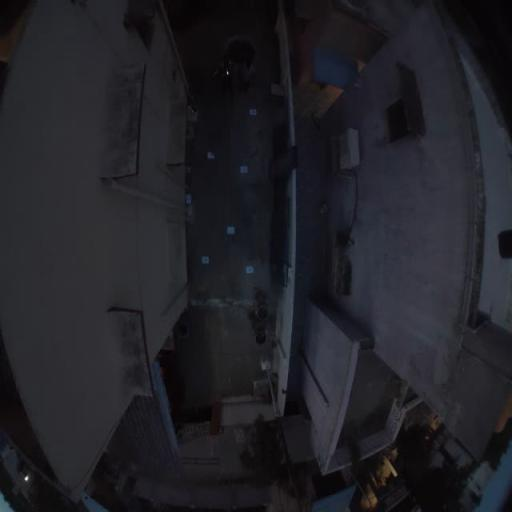A: (250, 108, 256, 115)
D: (246, 266, 254, 273)
J: (186, 194, 191, 204)
O: (226, 226, 236, 235)
T: (207, 151, 215, 160)
U: (240, 165, 248, 174)
Z: (202, 256, 210, 265)
